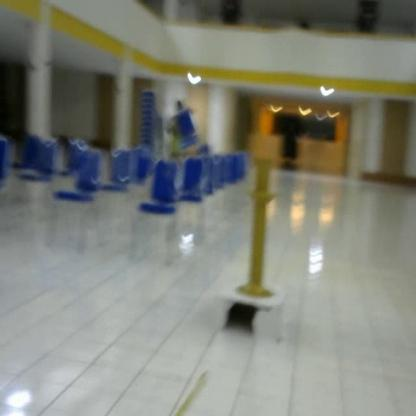pole: (238, 155, 282, 304)
